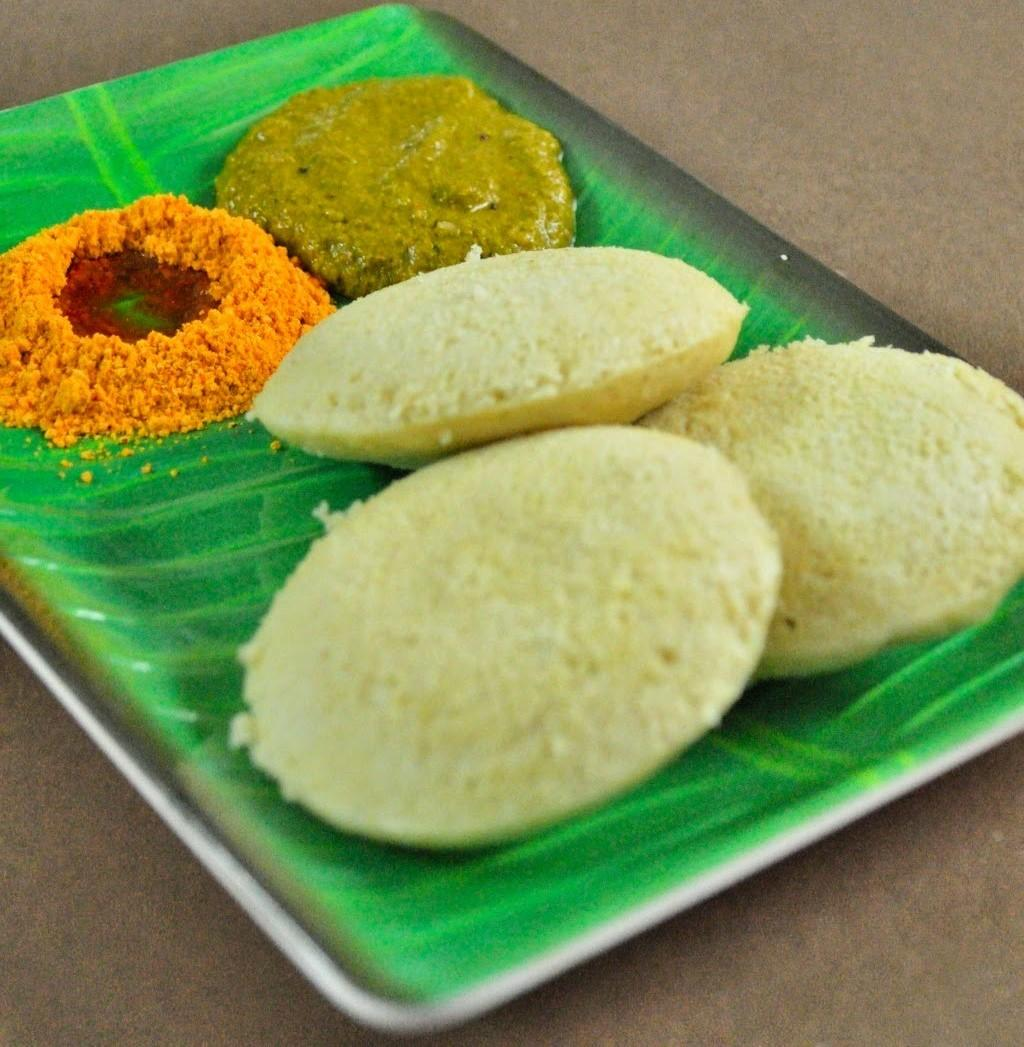Idli: (238, 428, 781, 814), (634, 334, 1024, 682), (248, 248, 746, 467)
